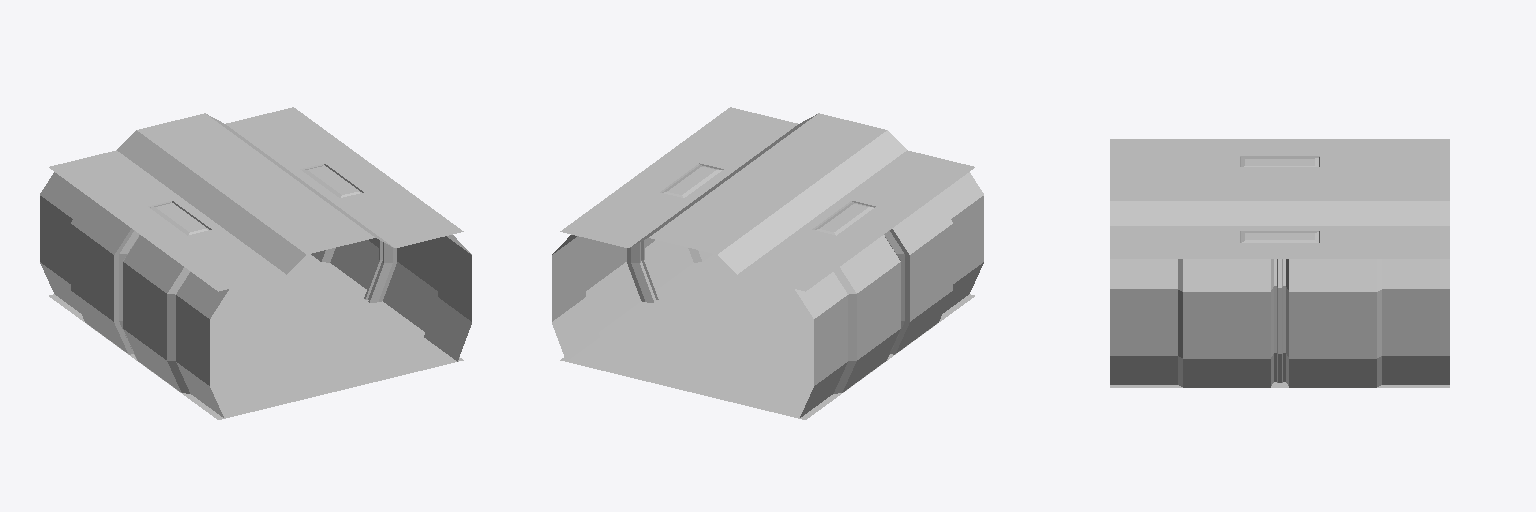
File: TexturingHallway.obj
The picture shows the model from 3 angles: view 1: azimuth 30°, elevation 25°; view 2: azimuth 150°, elevation 25°; view 3: azimuth 270°, elevation 25°; orthographic projection.
Parts seen in each view (by area): view 1: Plane; view 2: Plane; view 3: Plane.
Boxes of the visible parts, <box> form: Plane: <box>40,107,471,419</box>; Plane: <box>552,107,983,419</box>; Plane: <box>1110,139,1449,387</box>.
Bounding box in the file's own units: 5.6 × 2.8 × 6.